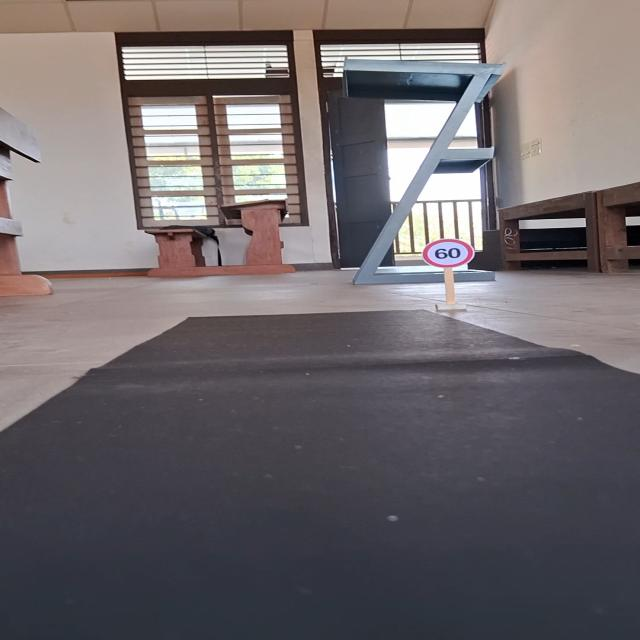Speed60: (421, 237, 475, 269)
